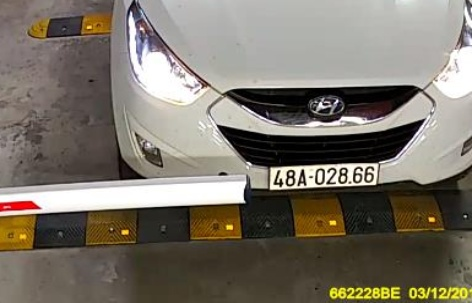plate: (267, 157, 385, 194)
